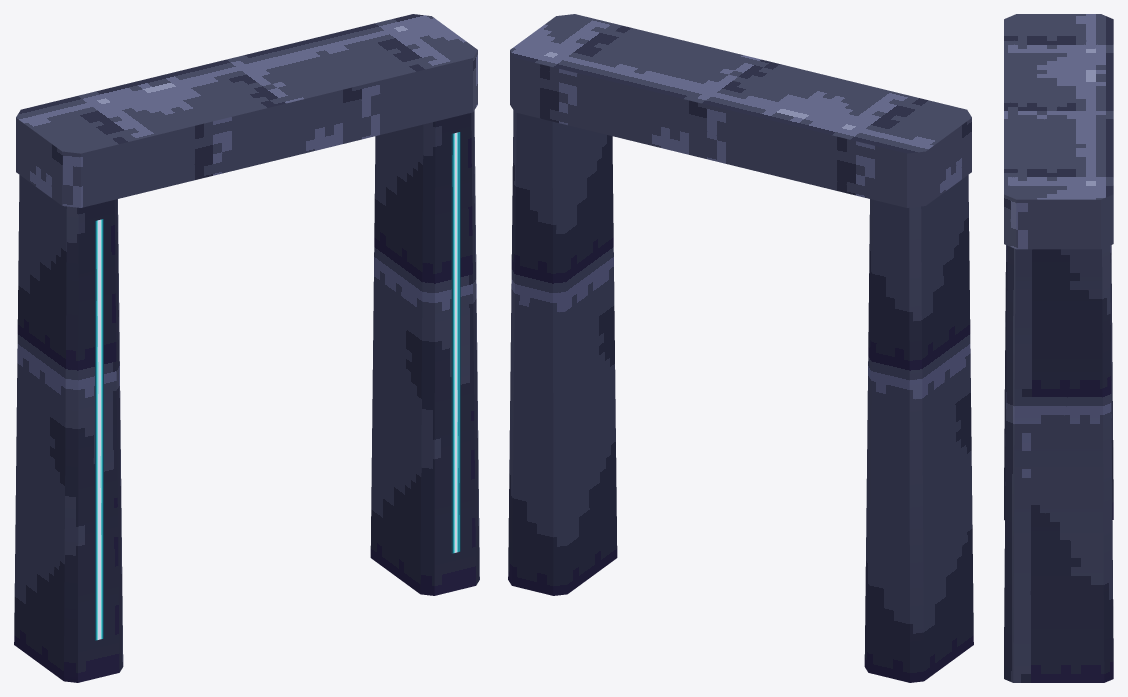
The model's file is cyroom.portal.glb.
3 renders of one model, left to right at view 1: azimuth 30°, elevation 25°; view 2: azimuth 150°, elevation 25°; view 3: azimuth 270°, elevation 25°, orthographic. The views are drawn at different scales.
Visible parts, largest first — view 1: kit_frame, kit_card_light; view 2: kit_frame; view 3: kit_frame.
Boxes of the visible parts, x1,y1,x2,y2 form: kit_frame: (14, 14, 479, 682); kit_card_light: (95, 132, 460, 640); kit_frame: (508, 14, 973, 682); kit_frame: (1004, 14, 1113, 682).
Size of the model in its own units: 2.8 by 3.4 by 0.71.
Materials: 3 (3 with a texture image).
